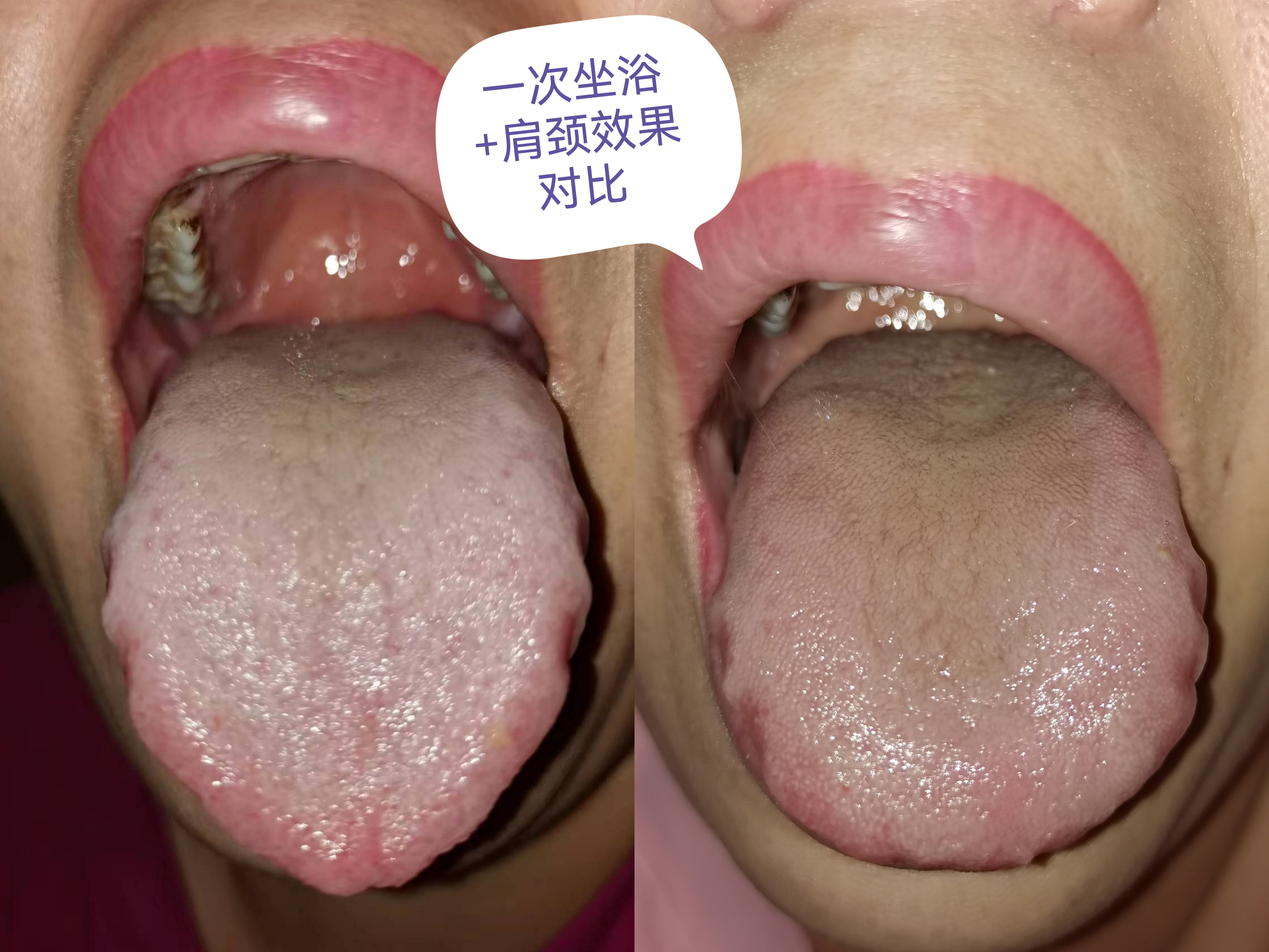baitaishe: (102, 313, 592, 900), (708, 327, 1207, 872)
chihenshe: (103, 606, 202, 794), (708, 621, 768, 787), (551, 509, 594, 716), (1167, 577, 1207, 754)
